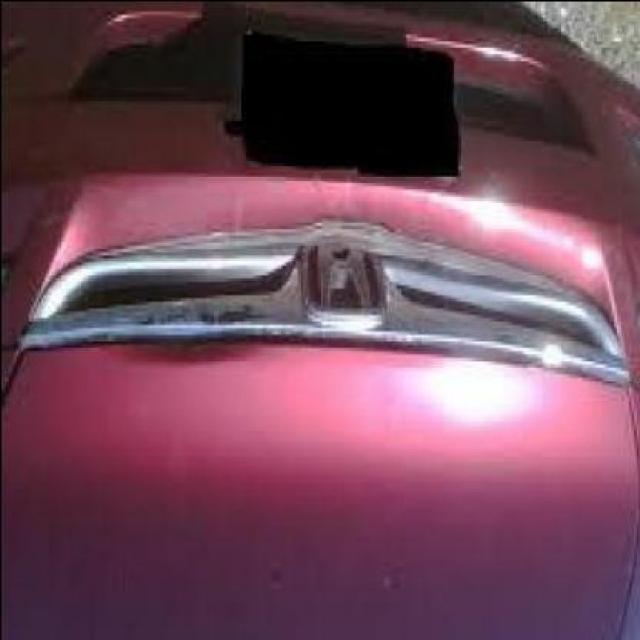damage: (22, 154, 275, 373)
